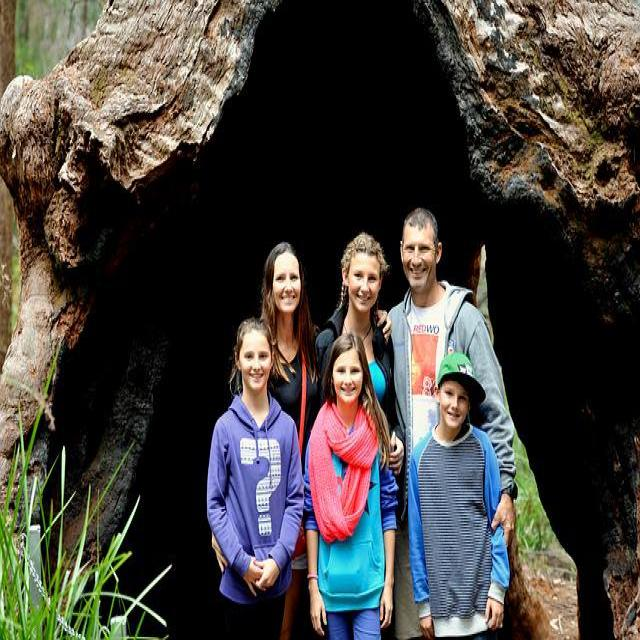adult: (385, 205, 517, 640), (314, 231, 406, 640), (237, 239, 323, 640), (407, 351, 512, 640)
child: (207, 316, 305, 640), (303, 333, 400, 640)
